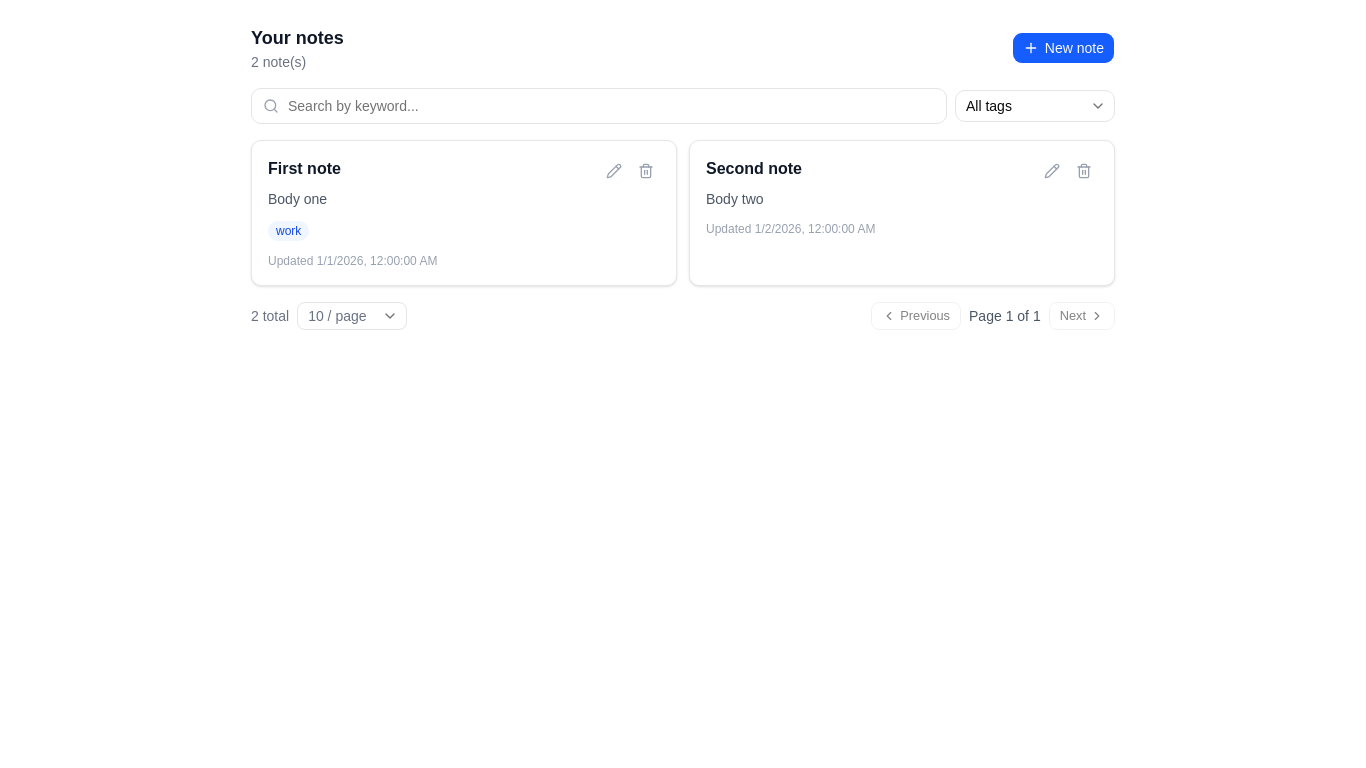
NotesPageClient › opens the edit-note modal pre-filled when a card's edit button is clicked
Click the button named "Edit First note" at coordinates (614, 171), box 600,157 -> 628,185
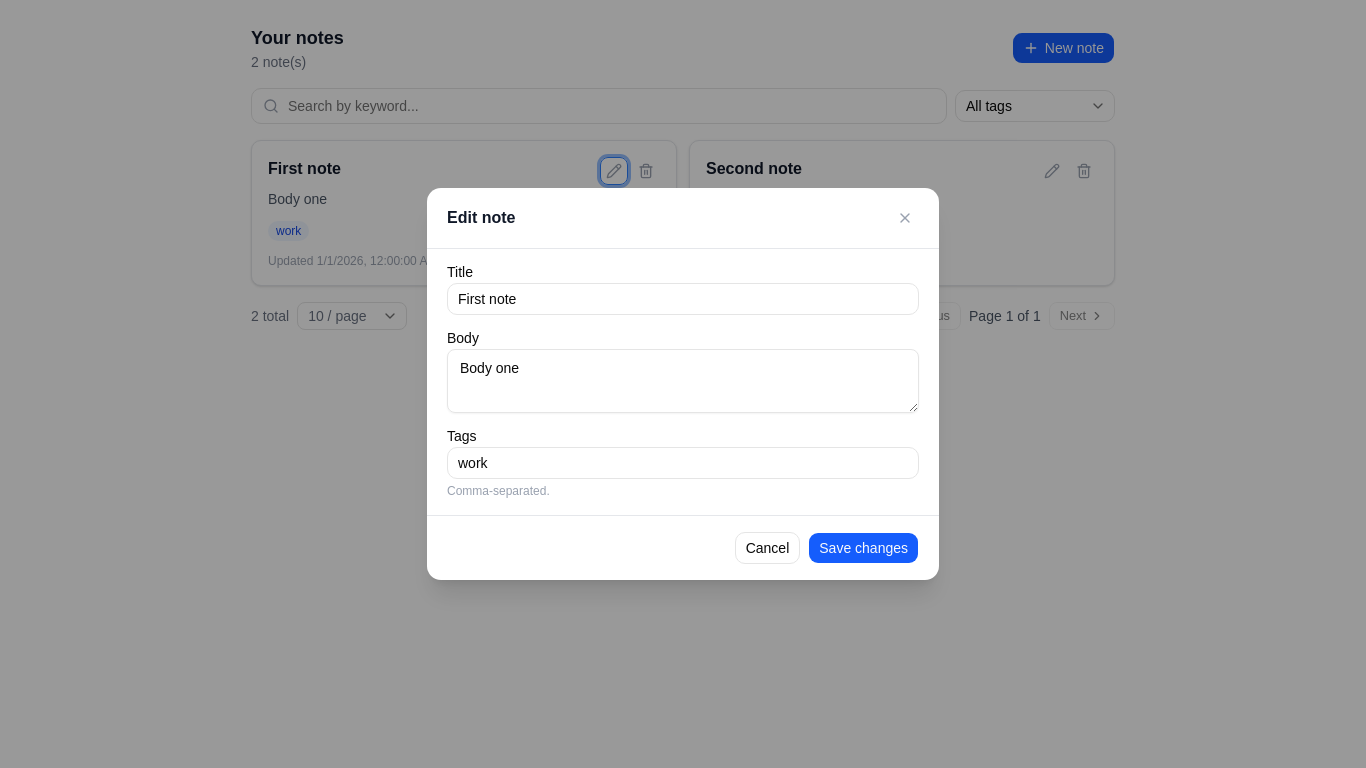
Result: the heading "Edit note" is shown at 447,206 -> 515,230
Result: the field labelled "Title" holds "First note" at 447,283 -> 919,315
